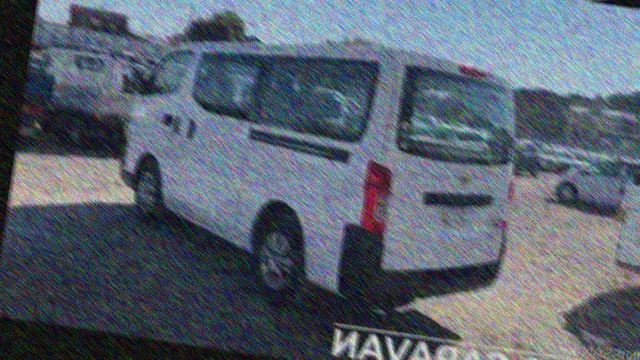van: (106, 8, 539, 327)
